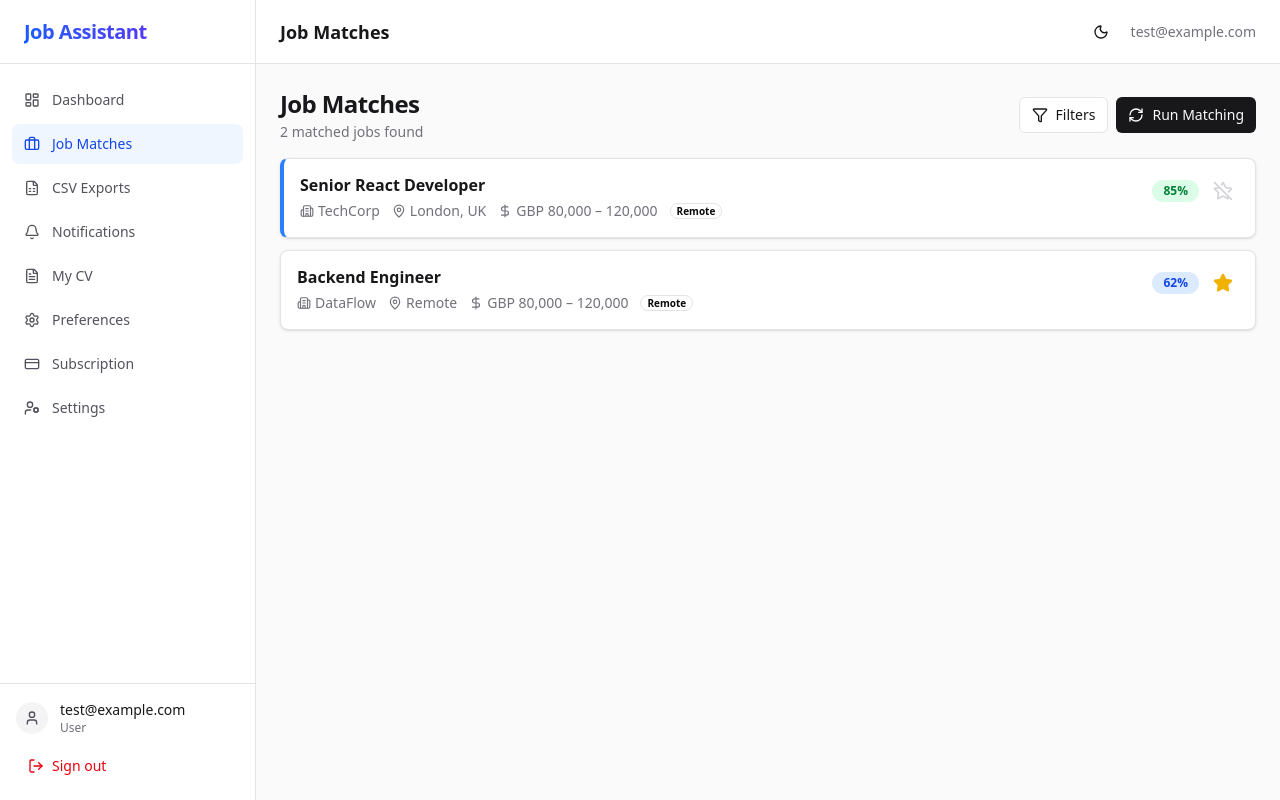
Scenario: Jobs page › expanding a card shows score breakdown bars
The width and height of the screenshot is (1280, 800).
What coordinates should you click on to do the following:
click the heading "Senior React Developer"
I would click on:
 (393, 185)
Its box is [300, 174, 485, 196].
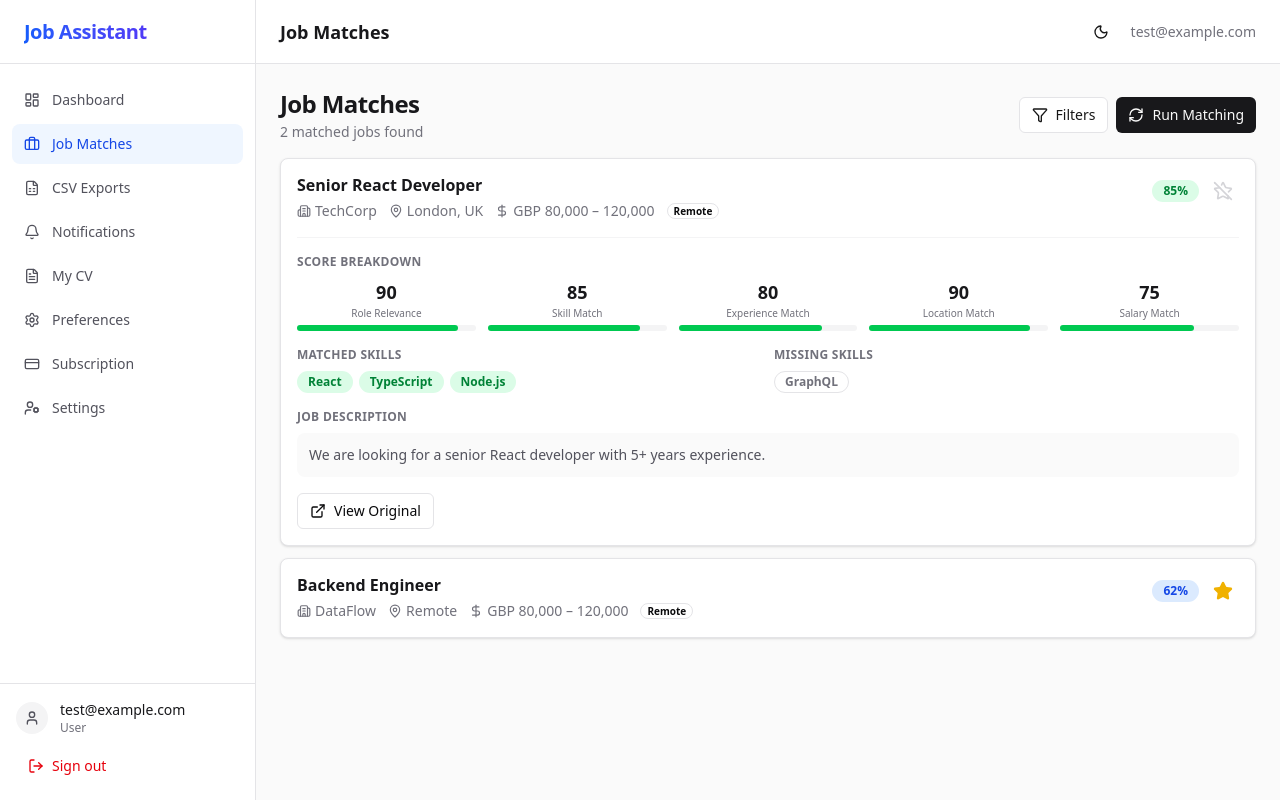
Expected: the heading "Score Breakdown" is shown, [297, 253, 422, 270]
